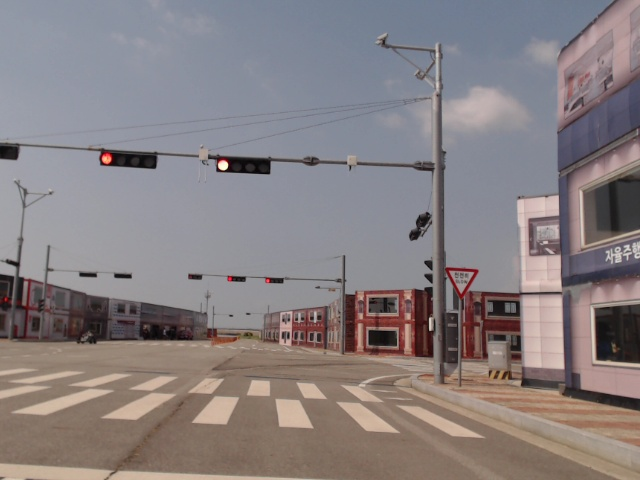red_4: (217, 155, 271, 175), (100, 152, 156, 170), (265, 277, 284, 285), (228, 275, 247, 282)
